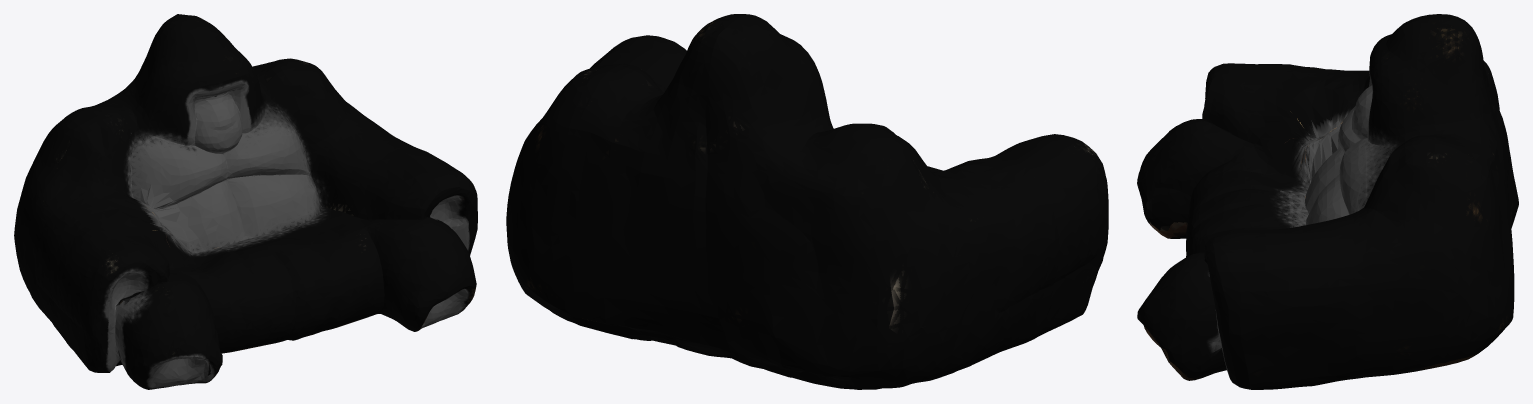
Rendered from gorilaBlack.glb.
3 views of the same model, side by side, from view 1: azimuth 30°, elevation 25°; view 2: azimuth 150°, elevation 25°; view 3: azimuth 270°, elevation 25° (orthographic). The views are drawn at different scales.
Visible parts, largest first — view 1: world; view 2: world; view 3: world.
Boxes of the visible parts, bbox=[...] form: world: bbox=[14, 14, 477, 389]; world: bbox=[506, 14, 1108, 389]; world: bbox=[1137, 14, 1518, 389].
Size of the model in its own units: 0.9961 by 0.6059 by 0.7539.
1 material, 1 textured.
